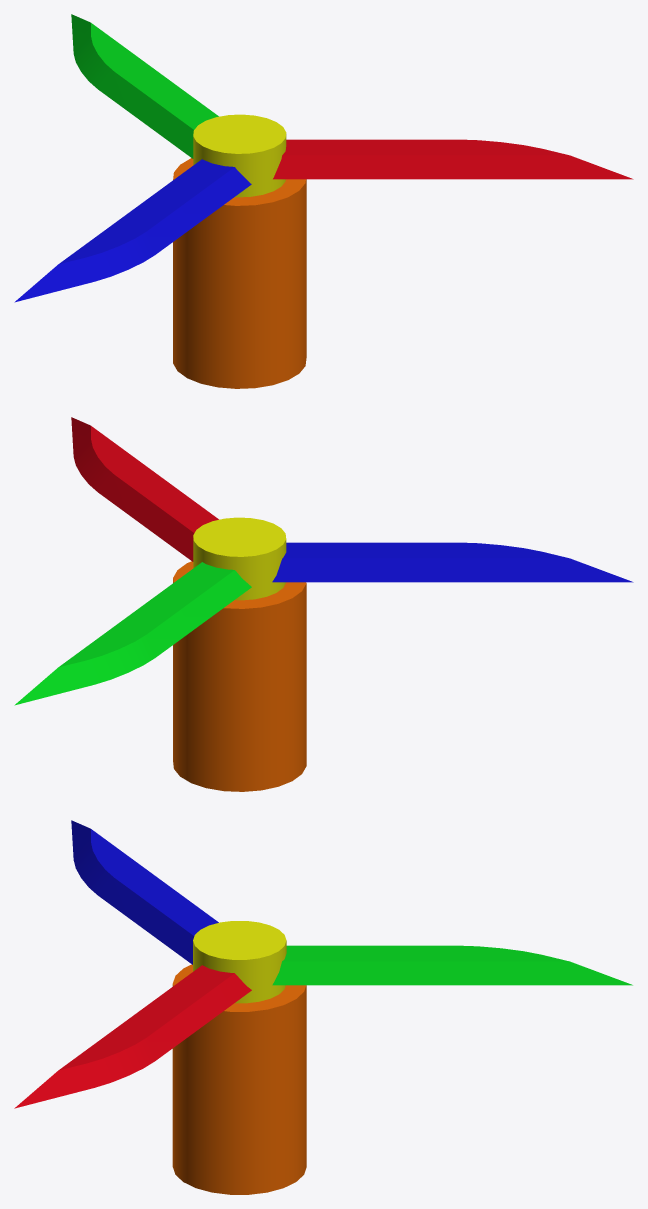
File: Colour_trap_blade.fbx
3 views of the same model, one above another, from view 1: azimuth 30°, elevation 25°; view 2: azimuth 150°, elevation 25°; view 3: azimuth 270°, elevation 25° (orthographic).
Parts seen in each view (by area): view 1: Cylinder.001, Cube.002, Cube.001, Cube, Cylinder; view 2: Cylinder.001, Cube.001, Cube, Cube.002, Cylinder; view 3: Cylinder.001, Cube, Cube.002, Cube.001, Cylinder.
Boxes of the visible parts, x1,y1,x2,y2 form: Cylinder.001: [173, 158, 306, 388]; Cube.002: [273, 139, 633, 179]; Cube.001: [14, 159, 251, 302]; Cube: [71, 14, 218, 158]; Cylinder: [193, 114, 286, 197]; Cylinder.001: [173, 561, 306, 791]; Cube.001: [272, 542, 633, 582]; Cube: [14, 562, 251, 705]; Cube.002: [71, 417, 218, 561]; Cylinder: [193, 517, 286, 600]; Cylinder.001: [172, 964, 306, 1194]; Cube: [272, 945, 632, 985]; Cube.002: [14, 965, 251, 1108]; Cube.001: [71, 820, 218, 964]; Cylinder: [193, 921, 286, 1003].
Bounding box in the file's own units: 98.96 × 36.2 × 89.85.
